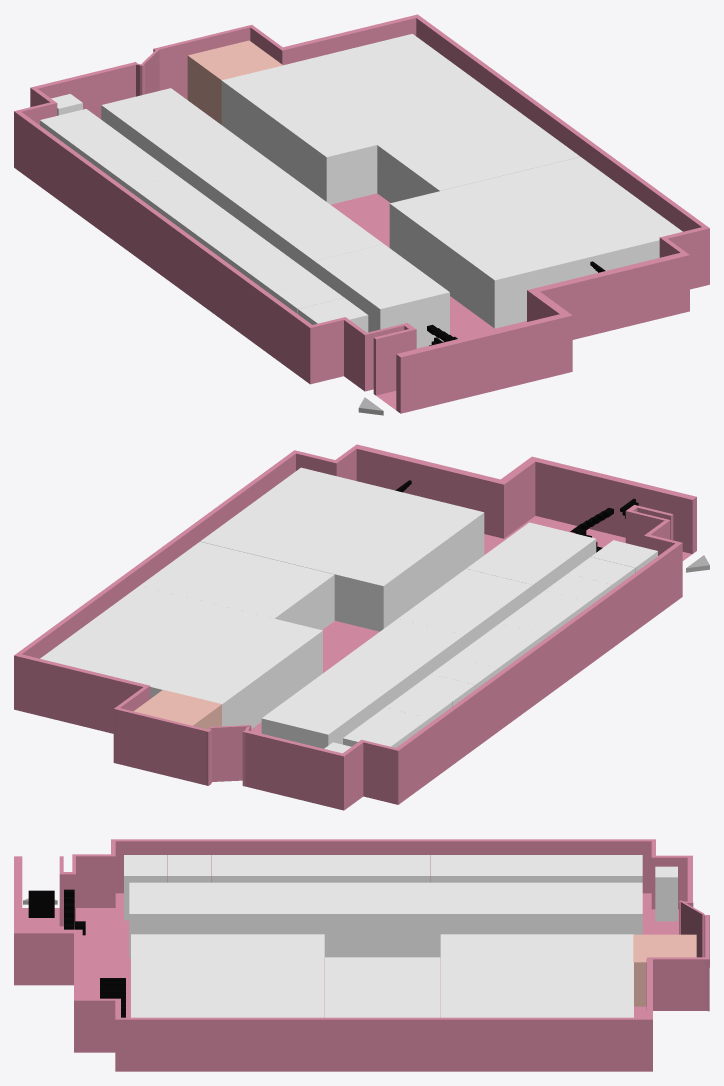
The picture shows the model from 3 angles, top to bottom: view 1: azimuth 30°, elevation 25°; view 2: azimuth 150°, elevation 25°; view 3: azimuth 270°, elevation 25°; orthographic projection. The views are drawn at different scales.
Parts seen in each view (by area): view 1: object, 525, 528, 521, 523, 522, 527, 524, 526, 男子トイレ_5_2, 研究室1, 研究室2 (+10 smaller); view 2: object, 525, 528, 524, 523, 522, 526, 521, 527, 男子トイレ_5_2, 研究室1, 研究室8 (+10 smaller); view 3: object, 528, 525, 523, 522, 524, 521, 527, 526, 男子トイレ_5_2, 研究室1, コピー室 (+14 smaller).
Part boxes in pixels (x1=…): object: x1=14, y1=14, x2=709, y2=413; 525: x1=389, y1=157, x2=682, y2=328; 528: x1=221, y1=34, x2=517, y2=204; 521: x1=314, y1=244, x2=449, y2=348; 523: x1=170, y1=138, x2=312, y2=222; 522: x1=243, y1=192, x2=383, y2=275; 527: x1=377, y1=110, x2=548, y2=202; 524: x1=101, y1=88, x2=238, y2=169; 526: x1=408, y1=133, x2=580, y2=198; 男子トイレ_5_2: x1=187, y1=40, x2=282, y2=124; 研究室1: x1=298, y1=297, x2=368, y2=332; 研究室2: x1=274, y1=280, x2=343, y2=313; object: x1=14, y1=444, x2=696, y2=810; 525: x1=200, y1=467, x2=484, y2=631; 528: x1=40, y1=586, x2=322, y2=728; 524: x1=261, y1=670, x2=394, y2=748; 523: x1=327, y1=619, x2=464, y2=700; 522: x1=398, y1=569, x2=532, y2=648; 526: x1=170, y1=541, x2=334, y2=629; 521: x1=466, y1=522, x2=596, y2=598; 527: x1=140, y1=564, x2=304, y2=625; 男子トイレ_5_2: x1=134, y1=689, x2=221, y2=729; 研究室1: x1=591, y1=540, x2=657, y2=572; 研究室8: x1=431, y1=657, x2=498, y2=689; object: x1=14, y1=839, x2=709, y2=1071; 528: x1=440, y1=934, x2=633, y2=1017; 525: x1=131, y1=934, x2=324, y2=1017; 523: x1=382, y1=882, x2=516, y2=957; 522: x1=250, y1=882, x2=381, y2=957; 524: x1=516, y1=882, x2=642, y2=934; 521: x1=129, y1=882, x2=250, y2=958; 527: x1=382, y1=957, x2=440, y2=1017; 526: x1=325, y1=957, x2=382, y2=1017; 男子トイレ_5_2: x1=633, y1=934, x2=696, y2=1006; 研究室1: x1=124, y1=855, x2=167, y2=920; コピー室: x1=655, y1=866, x2=677, y2=921.
Size of the model in its own units: 1.56 by 0.224 by 2.54.
